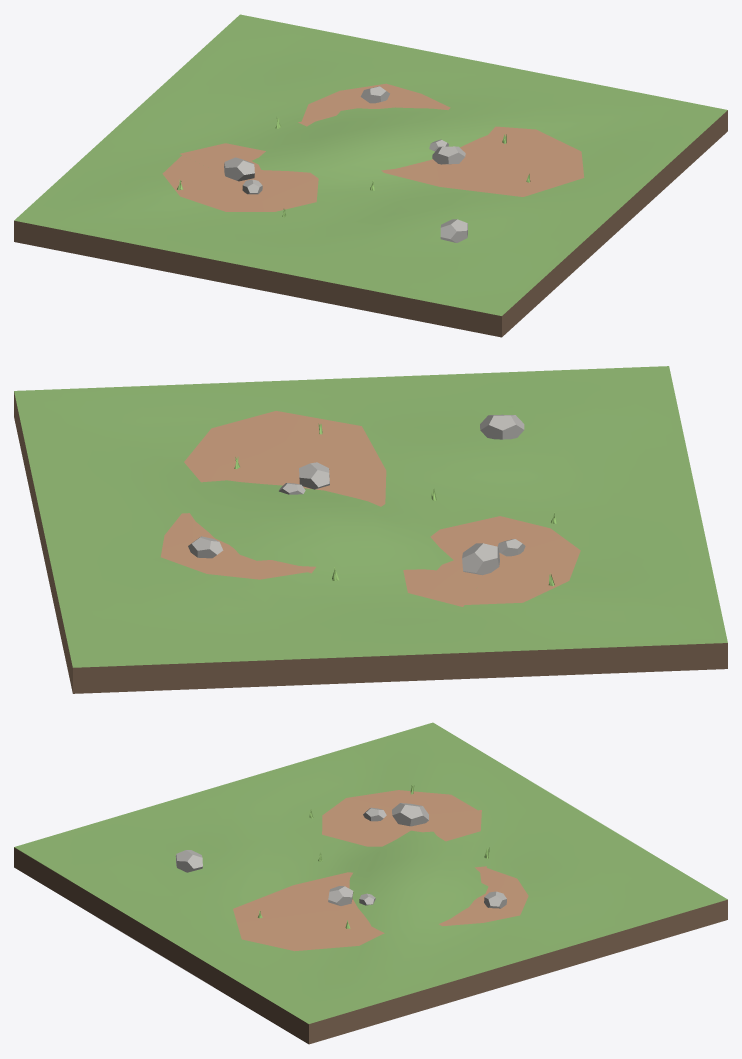
File: south_indian_village_ground_tile_8x8.glb
3 renders of one model, top to bottom at view 1: azimuth 30°, elevation 25°; view 2: azimuth 150°, elevation 25°; view 3: azimuth 270°, elevation 25°, orthographic. The views are drawn at different scales.
Visible parts, largest first — view 1: Terrain_Grass_Surface, Terrain_Base_Skirt, Earthen_Soil_Patch_1, Earthen_Soil_Patch_2, Earthen_Soil_Patch_3, Granite_Pebble_3, Granite_Pebble_6; view 2: Terrain_Grass_Surface, Terrain_Base_Skirt, Earthen_Soil_Patch_1, Earthen_Soil_Patch_2, Earthen_Soil_Patch_3, Granite_Pebble_3, Granite_Pebble_6, Granite_Pebble_1, Granite_Pebble_5; view 3: Terrain_Grass_Surface, Terrain_Base_Skirt, Earthen_Soil_Patch_1, Earthen_Soil_Patch_2, Earthen_Soil_Patch_3, Granite_Pebble_3.
Part boxes in pixels (x1,y1,x2,y2): Terrain_Grass_Surface: (14, 14, 727, 315); Terrain_Base_Skirt: (14, 110, 727, 337); Earthen_Soil_Patch_1: (381, 126, 584, 196); Earthen_Soil_Patch_2: (162, 143, 318, 211); Earthen_Soil_Patch_3: (298, 83, 450, 126); Granite_Pebble_3: (224, 157, 254, 181); Granite_Pebble_6: (440, 219, 467, 242); Terrain_Grass_Surface: (14, 366, 727, 667); Terrain_Base_Skirt: (14, 392, 727, 693); Earthen_Soil_Patch_1: (184, 411, 386, 506); Earthen_Soil_Patch_2: (403, 516, 580, 606); Earthen_Soil_Patch_3: (160, 513, 315, 579); Granite_Pebble_3: (462, 543, 499, 575); Granite_Pebble_6: (480, 414, 524, 439); Granite_Pebble_1: (299, 462, 329, 489); Granite_Pebble_5: (188, 536, 223, 558); Terrain_Grass_Surface: (14, 722, 727, 1023); Terrain_Base_Skirt: (14, 847, 727, 1044); Earthen_Soil_Patch_1: (233, 872, 384, 951); Earthen_Soil_Patch_2: (322, 790, 481, 846); Earthen_Soil_Patch_3: (439, 866, 528, 926); Granite_Pebble_3: (392, 803, 428, 826).
Bounding box in the file's own units: 11.15 × 0.6517 × 11.15.
